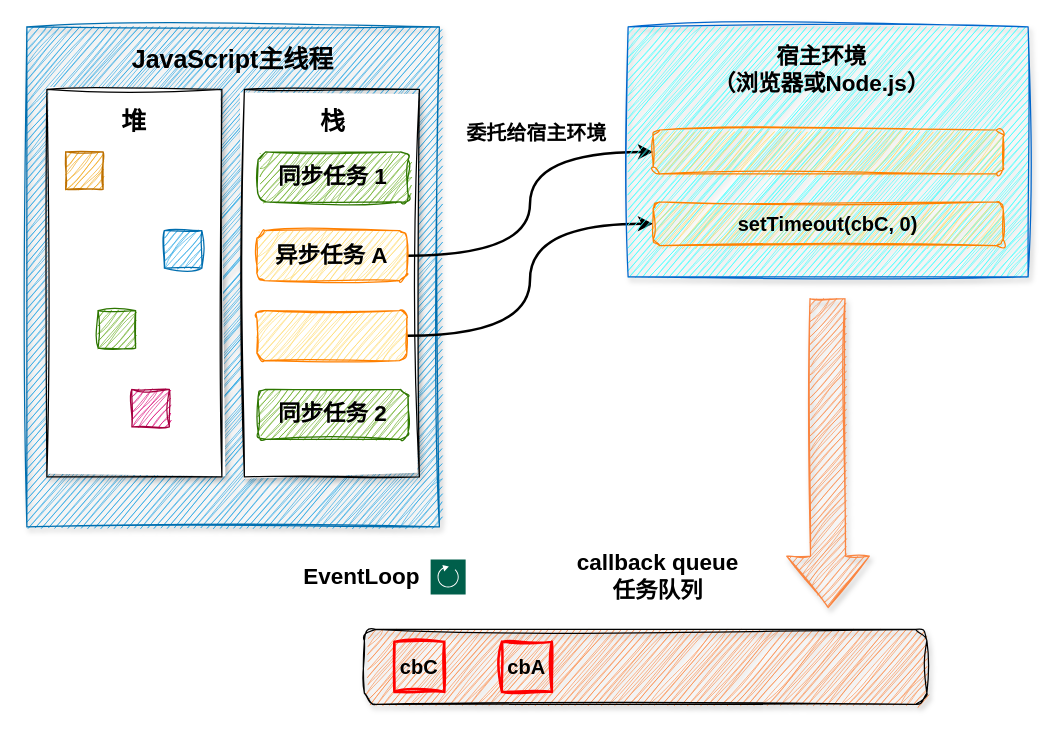
Image size: 1058x735. Some labels were removed from this diagram. Each missing label, with the centre of its shape:
"fs.readFile('路径', 'utf-8', cbA)" goes at [827,151].
"异步任务 C" goes at [331,335].
